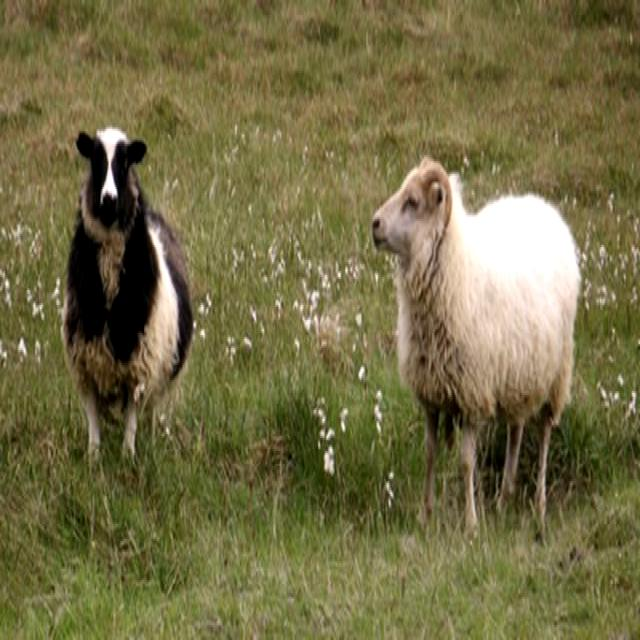sheep: (372, 155, 581, 548), (61, 123, 192, 463)
